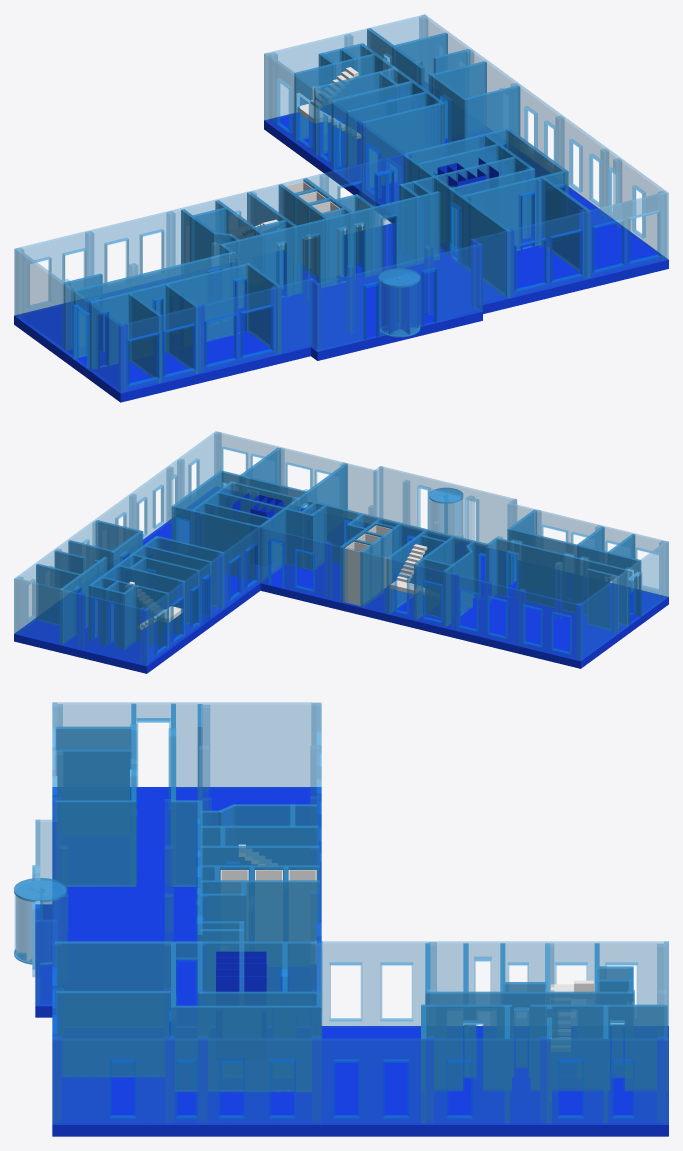
The picture shows the model from 3 angles, top to bottom: view 1: azimuth 30°, elevation 25°; view 2: azimuth 150°, elevation 25°; view 3: azimuth 270°, elevation 25°; orthographic projection. The views are drawn at different scales.
Parts seen in each view (by area): view 1: 底, 立方体.1_10, 立方体.40, 立方体.17_2, 立方体.39, 立方体.37, 立方体.38, 立方体_3, 立方体.25_3, 立方体.17_4, 立方体.25_2, 立方体.1_6 (+38 smaller); view 2: 底, 立方体.40, 立方体.36, 立方体.2_8, 立方体.37, 立方体_3, 立方体.25_3, 立方体.17_2, 立方体.1_10, 立方体.38, 立方体.25_2, 立方体.14_1 (+52 smaller); view 3: 底, 立方体.37, 立方体.7_4, 立方体_3, 立方体.25_3, 立方体_7, 立方体.25_2, 立方体.4_4, 立方体.19_1, 立方体.24, 立方体.18, 立方体.19 (+34 smaller).
Part boxes in pixels (x1,y1,x2,y2): 底: (14,86,668,402); 立方体.1_10: (219,168,535,308); 立方体.40: (16,152,410,313); 立方体.17_2: (316,243,482,351); 立方体.39: (119,278,313,392); 立方体.37: (422,14,668,259); 立方体.38: (471,192,666,304); 立方体_3: (14,248,123,392); 立方体.25_3: (264,53,405,204); 立方体.17_4: (89,263,248,369); 立方体.25_2: (403,155,510,297); 立方体.1_6: (361,103,442,189); 底: (14,490,668,673); 立方体.40: (254,525,580,660); 立方体.36: (14,578,147,665); 立方体.2_8: (496,538,628,625); 立方体.37: (14,431,217,633); 立方体_3: (578,541,668,660); 立方体.25_3: (144,526,261,665); 立方体.17_2: (379,466,516,543); 立方体.1_10: (229,481,490,598); 立方体.38: (216,432,377,516); 立方体.25_2: (259,463,347,581); 立方体.14_1: (193,510,259,582); 底: (35,787,668,1136); 立方体.37: (52,1038,668,1124); 立方体.7_4: (421,1004,667,1091); 立方体_3: (52,702,321,788); 立方体.25_3: (315,941,668,1027); 立方体_7: (171,1005,321,1092); 立方体.25_2: (55,941,316,992); 立方体.4_4: (56,991,170,1077); 立方体.19_1: (55,800,136,886); 立方体.24: (200,880,319,941); 立方体.18: (425,991,631,1078); 立方体.19: (55,749,131,800).
Size of the model in its own units: 636 by 84 by 520.
